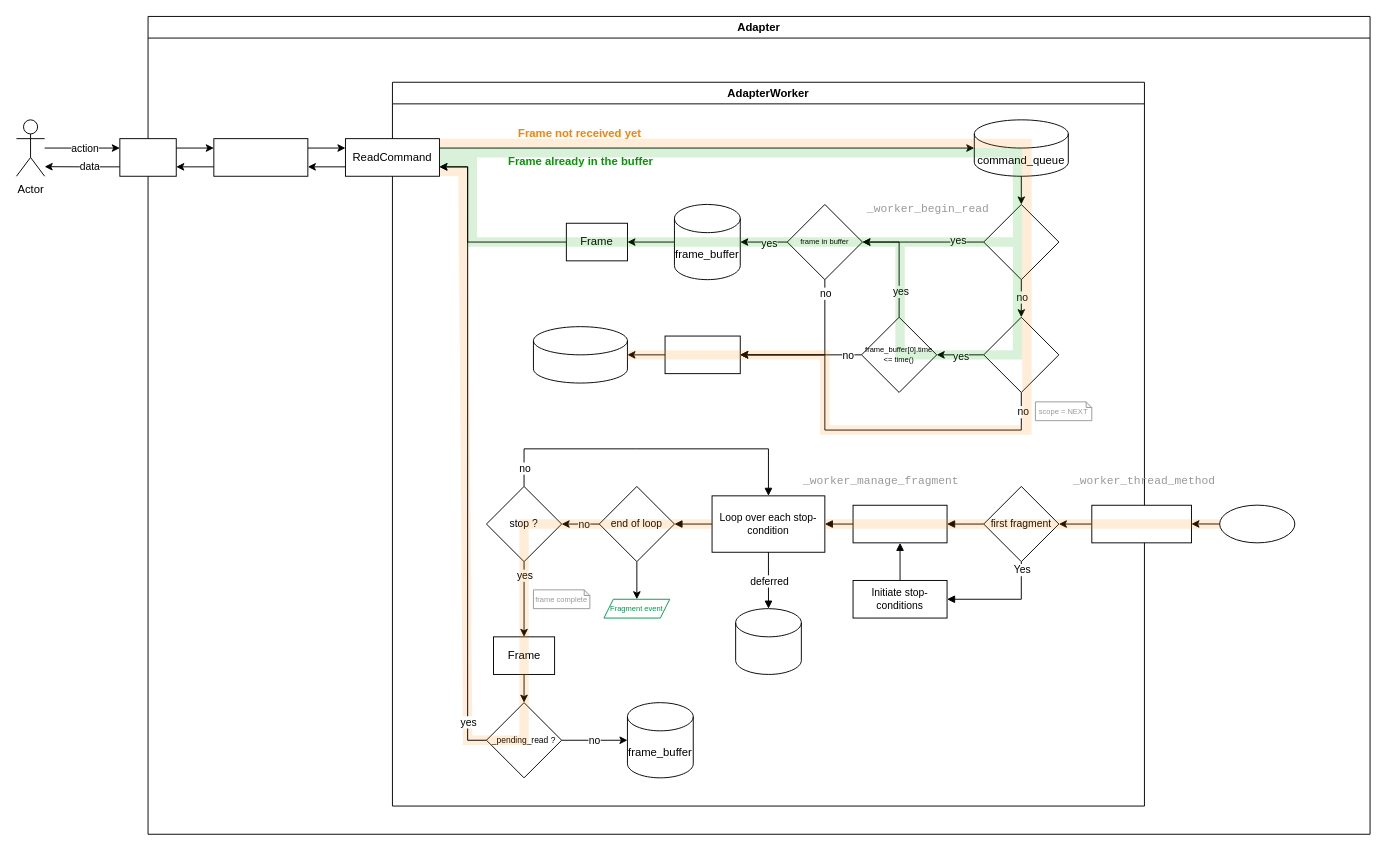
Image size: 1387x851. Some labels were removed from this diagram. Each missing label, with the centre of its shape:
_pending_read: (580,354)
Device: (1257,523)
Incoming data (Fragment): (1141,523)
kept = fragment: (899,523)
PendingRead: (702,354)
previous buffer: (768,641)
read(): (147,157)
read_detailed(): (260,157)
scope == BUFFERED: (1021,242)
scope == LAST_WRITE: (1021,354)
